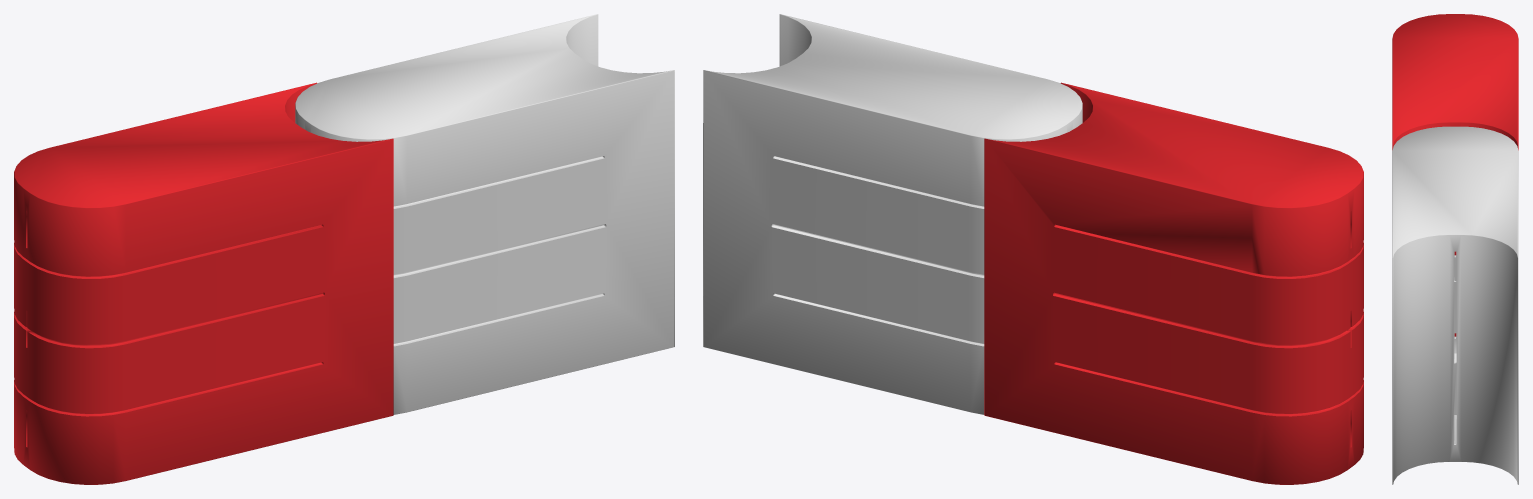
The model's file is Tecpro_F1.obj.
3 views of the same model, side by side, from view 1: azimuth 30°, elevation 25°; view 2: azimuth 150°, elevation 25°; view 3: azimuth 270°, elevation 25° (orthographic). The views are drawn at different scales.
Parts seen in each view (by area): view 1: TECPRO_Barriers_TECPRO_Red, TECPRO_Barriers_TECPRO_White; view 2: TECPRO_Barriers_TECPRO_Red, TECPRO_Barriers_TECPRO_White; view 3: TECPRO_Barriers_TECPRO_White, TECPRO_Barriers_TECPRO_Red.
Boxes of the visible parts, x1=… form: TECPRO_Barriers_TECPRO_Red: x1=14, y1=82, x2=393, y2=484; TECPRO_Barriers_TECPRO_White: x1=295, y1=14, x2=674, y2=414; TECPRO_Barriers_TECPRO_Red: x1=984, y1=82, x2=1363, y2=484; TECPRO_Barriers_TECPRO_White: x1=703, y1=14, x2=1082, y2=414; TECPRO_Barriers_TECPRO_White: x1=1392, y1=126, x2=1518, y2=484; TECPRO_Barriers_TECPRO_Red: x1=1392, y1=14, x2=1518, y2=336.
Size of the model in its own units: 4.14 by 1.8 by 0.9043.
Materials: 2 (2 with a texture image).
